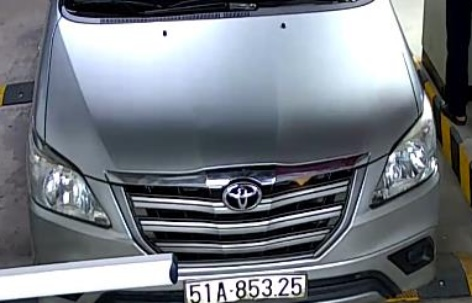plate: (184, 264, 318, 303)
